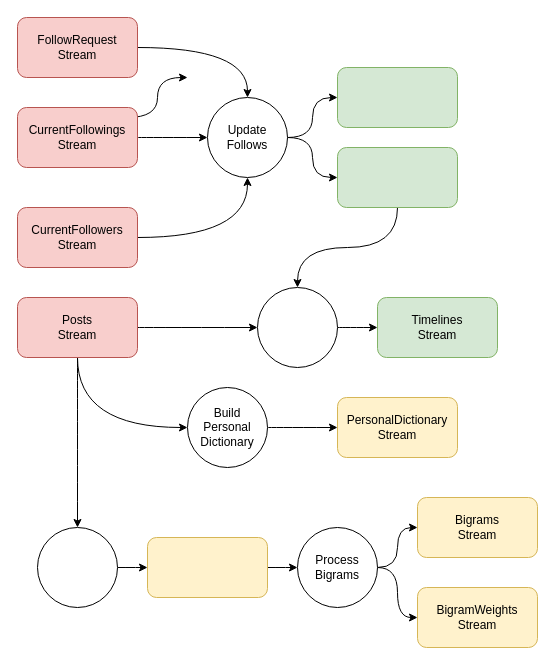
Image size: 555x665. Some labels were removed from this diagram. Here are the shapes that lost their labels. From the top down, the centre of each, then its label:
At pixel 397 97: "UpdatedFollowers Stream".
At pixel 397 177: "UpdatedFollowings Stream".
At pixel 297 327: "Build Timeline".
At pixel 77 567: "FindBigrams".
At pixel 207 567: "NewBigrams Stream".
